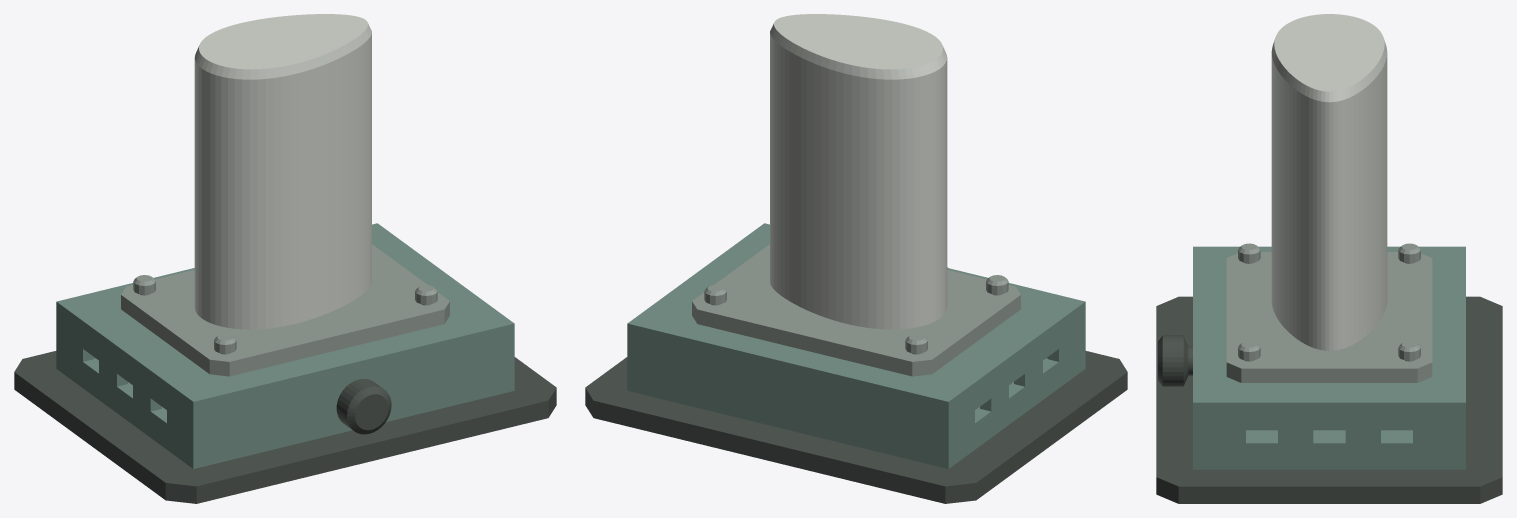
The picture shows the model from 3 angles, left to right: view 1: azimuth 30°, elevation 25°; view 2: azimuth 150°, elevation 25°; view 3: azimuth 270°, elevation 25°; orthographic projection.
Visible parts, largest first — view 1: WholeContinuousUnequalRadiusVerticalPost, WholeHollowCaseAndSixTrueSideVents, WholeBroadChamferedGroundSole, WholeFourCornerPostFlange, WholeBlankFrontControl; view 2: WholeContinuousUnequalRadiusVerticalPost, WholeHollowCaseAndSixTrueSideVents, WholeBroadChamferedGroundSole, WholeFourCornerPostFlange; view 3: WholeContinuousUnequalRadiusVerticalPost, WholeHollowCaseAndSixTrueSideVents, WholeBroadChamferedGroundSole, WholeFourCornerPostFlange, WholeBlankFrontControl, WholeFixedFlangeBolt_2, WholeFixedFlangeBolt_3, WholeFixedFlangeBolt_0, WholeFixedFlangeBolt_1.
Part boxes in pixels (x1,y1,x2,y2): WholeContinuousUnequalRadiusVerticalPost: (194,14,371,329); WholeHollowCaseAndSixTrueSideVents: (56,223,514,468); WholeBroadChamferedGroundSole: (14,351,556,503); WholeFourCornerPostFlange: (121,244,449,376); WholeBlankFrontControl: (336,378,391,434); WholeContinuousUnequalRadiusVerticalPost: (770,14,947,329); WholeHollowCaseAndSixTrueSideVents: (627,223,1085,468); WholeBroadChamferedGroundSole: (585,351,1127,503); WholeFourCornerPostFlange: (692,244,1020,376); WholeContinuousUnequalRadiusVerticalPost: (1271,14,1387,350); WholeHollowCaseAndSixTrueSideVents: (1193,246,1465,469); WholeBroadChamferedGroundSole: (1156,296,1502,503); WholeFourCornerPostFlange: (1226,252,1432,382); WholeBlankFrontControl: (1158,335,1192,386); WholeFixedFlangeBolt_2: (1238,341,1260,361); WholeFixedFlangeBolt_3: (1398,341,1420,361); WholeFixedFlangeBolt_0: (1238,243,1260,263); WholeFixedFlangeBolt_1: (1398,243,1420,263).
Bounding box in the file's own units: 0.28 × 0.245 × 0.216.
